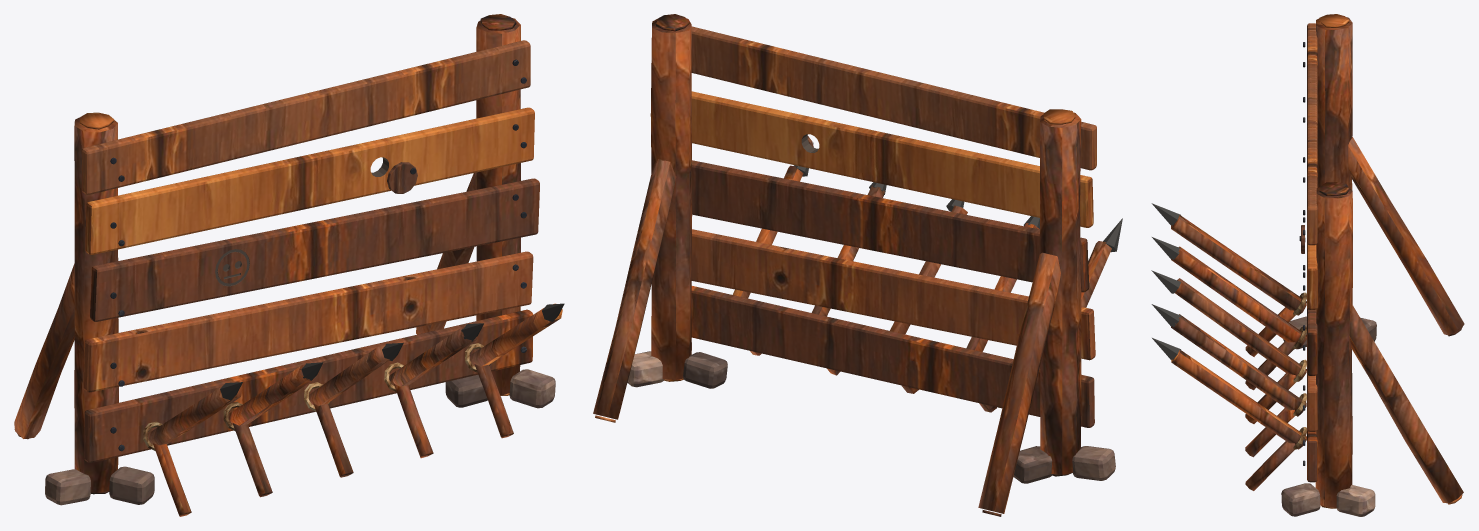
Rendered from op_barricade.glb.
The picture shows the model from 3 angles, left to right: view 1: azimuth 30°, elevation 25°; view 2: azimuth 150°, elevation 25°; view 3: azimuth 270°, elevation 25°; orthographic projection. The views are drawn at different scales.
Visible parts, largest first — view 1: model; view 2: model; view 3: model.
Part boxes in pixels (x1,y1,x2,y2): model: (14, 14, 564, 516); model: (593, 14, 1122, 516); model: (1151, 14, 1464, 516).
Bounding box in the file's own units: 1.82 × 1.33 × 1.18.
20 materials, 18 textured.
